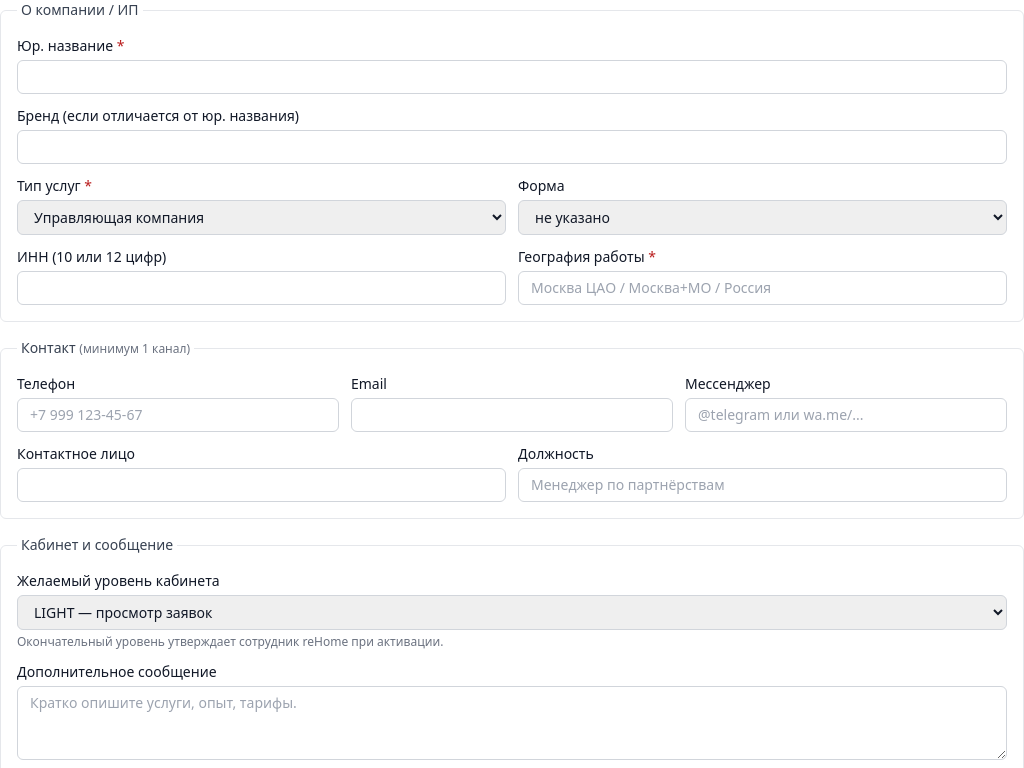
Test: OnboardingForm › happy path — POST /onboarding и success state
Type "ООО Тест" into the field labelled "Юр. название *" at point(512, 77), box [17,60,1007,94]
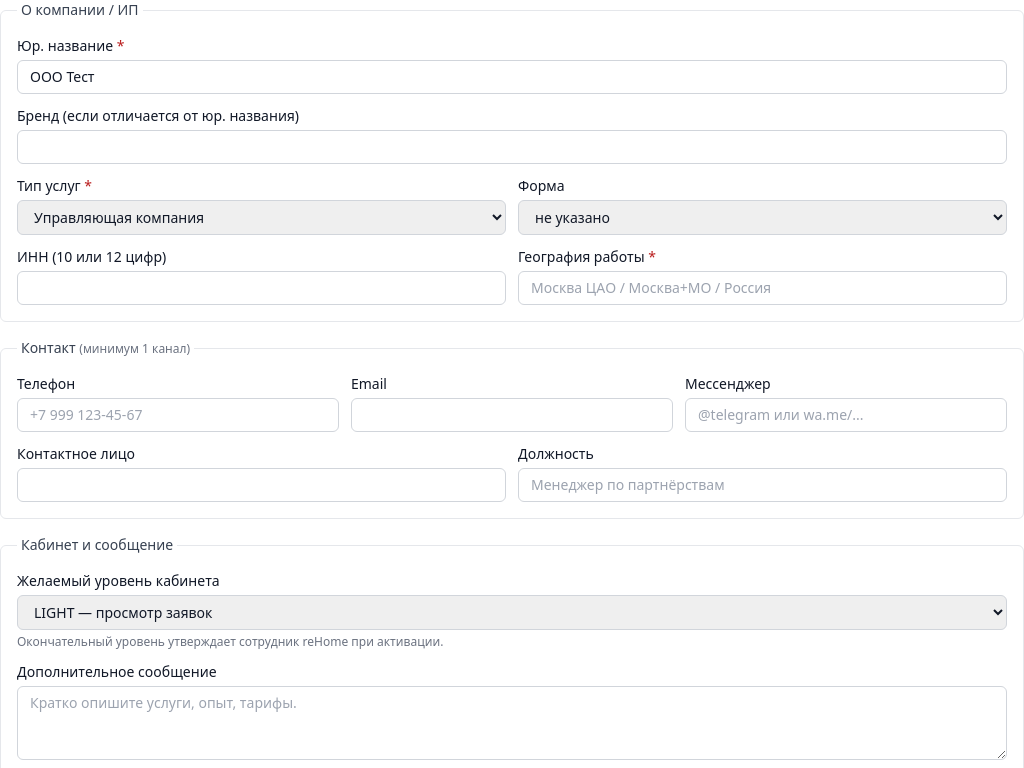
Type "Москва" into the field labelled "География работы *" at point(762, 288), box [518,271,1007,305]
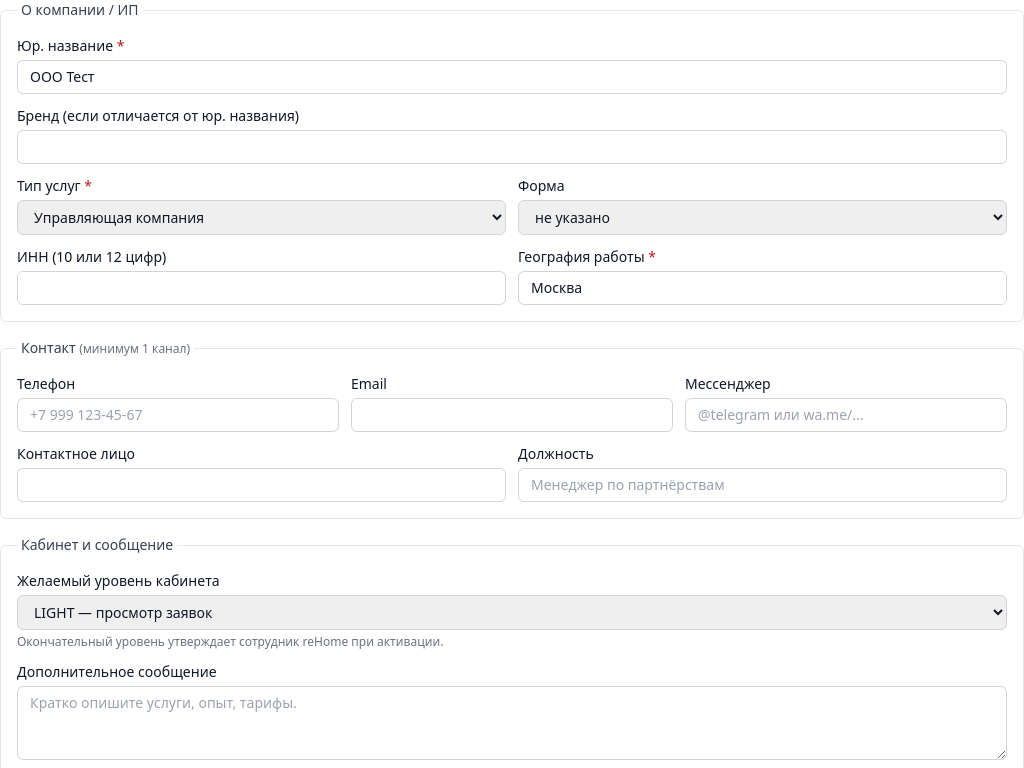
Type "test@example.com" into the field labelled "Email" at point(512, 415), box [351,398,673,432]
(page scrolled)
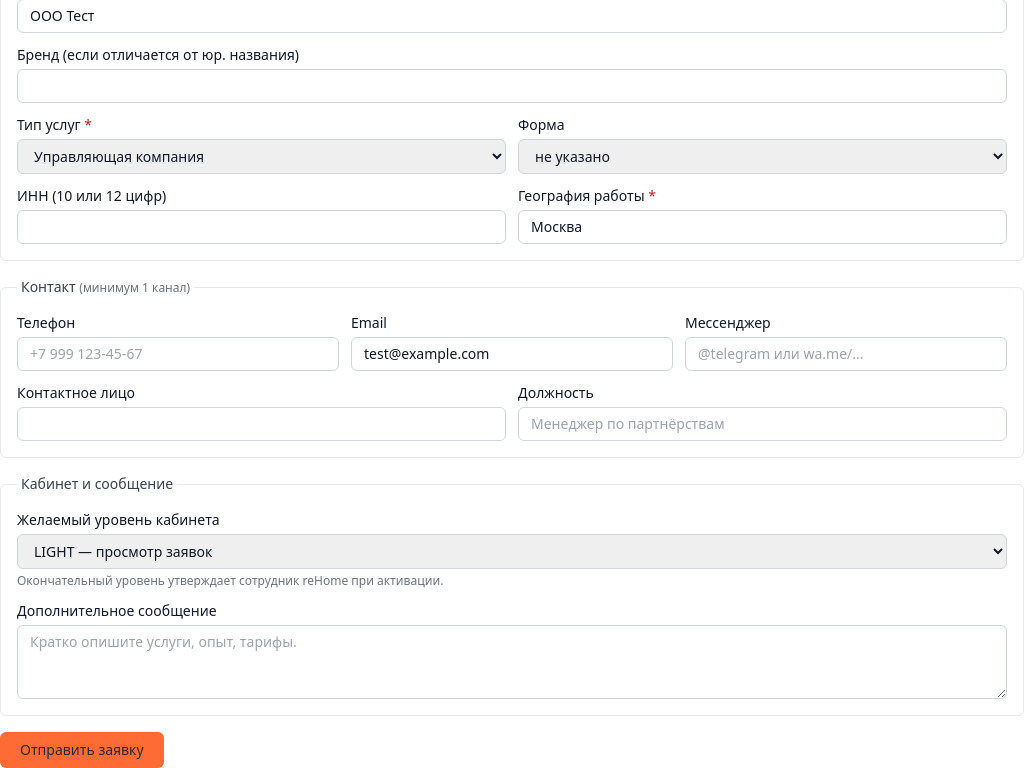
Submit the form from the button "Отправить заявку", box [0,732,164,767]
(page scrolled)
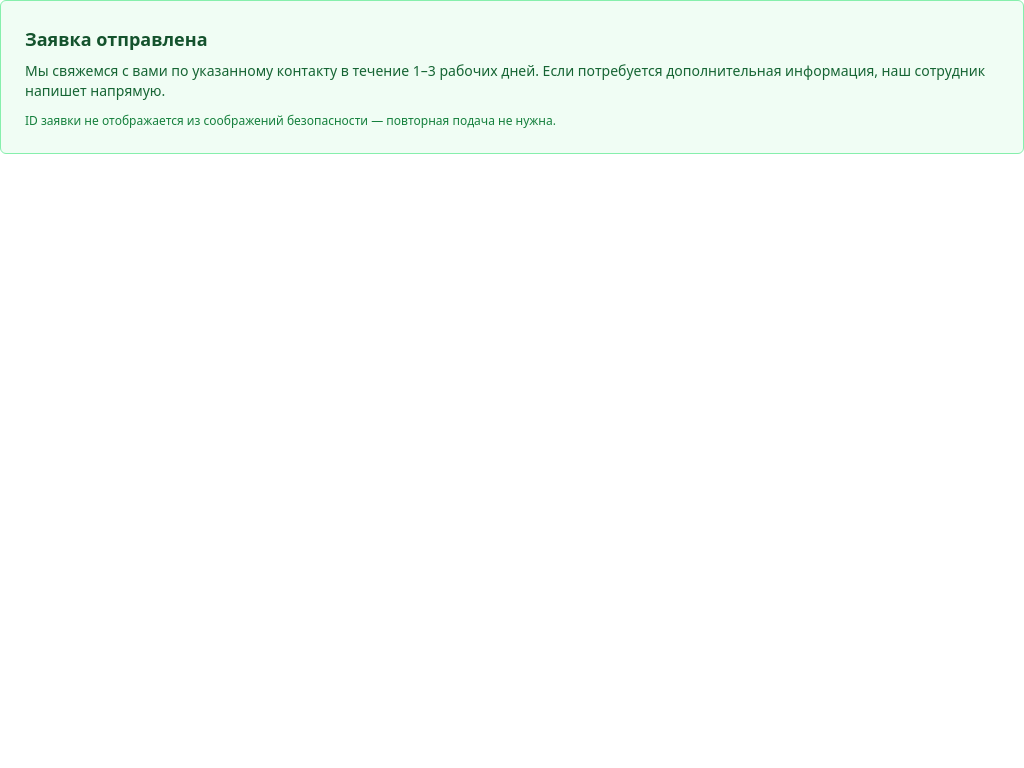
Now the heading "Заявка отправлена" is shown, box [25,27,208,51]
